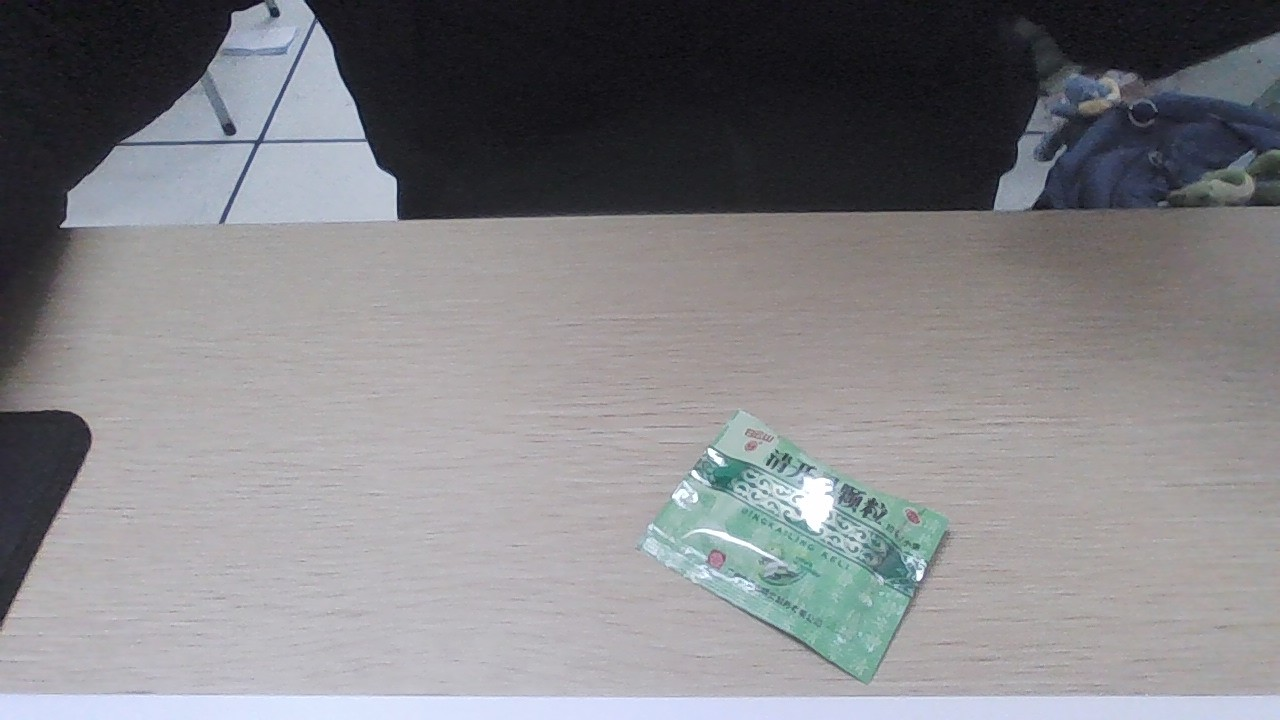YH-green medicine: (666, 442, 915, 626)
